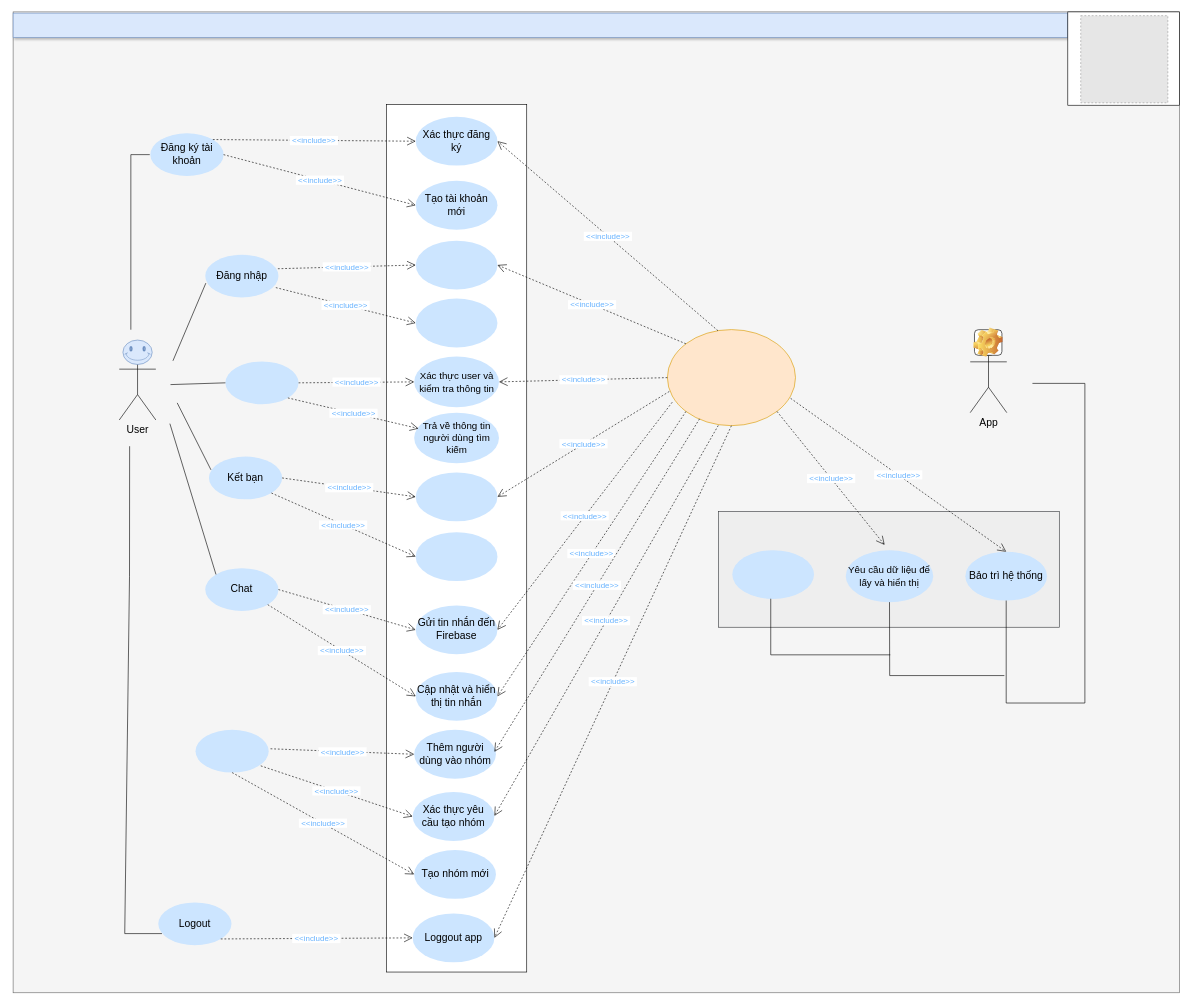
Some shapes in this 1190 by 1003 pixel diagram are drawn without their labels. Grey dashed boxes stand in for pictures. The centre of each missing label's shape, as x and y in pixels:
"Firebase" belongs at point 731,377.
"Gửi yêu cầu" belongs at point 456,496.
"PHChat ( General Use-case Diagram )" belongs at point 540,26.
"Setup mode view" belongs at point 773,574.
"Tìm kiếm" belongs at point 261,382.
"Tạo nhóm chat" belongs at point 231,751.
"Xác thực yêu cầu và cập nhật bạn bè" belongs at point 456,556.
"Xác thực đăng nhập" belongs at point 456,264.
"Đã đăng nhập vào App" belongs at point 456,322.
